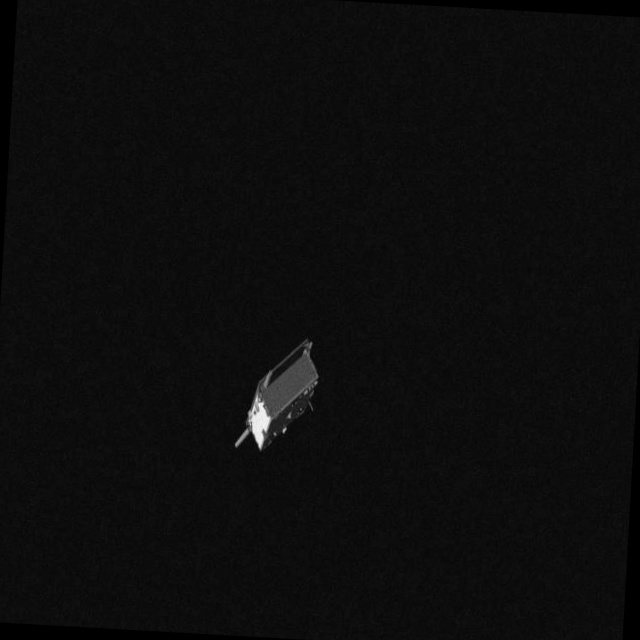satellite: (218, 323, 330, 464)
